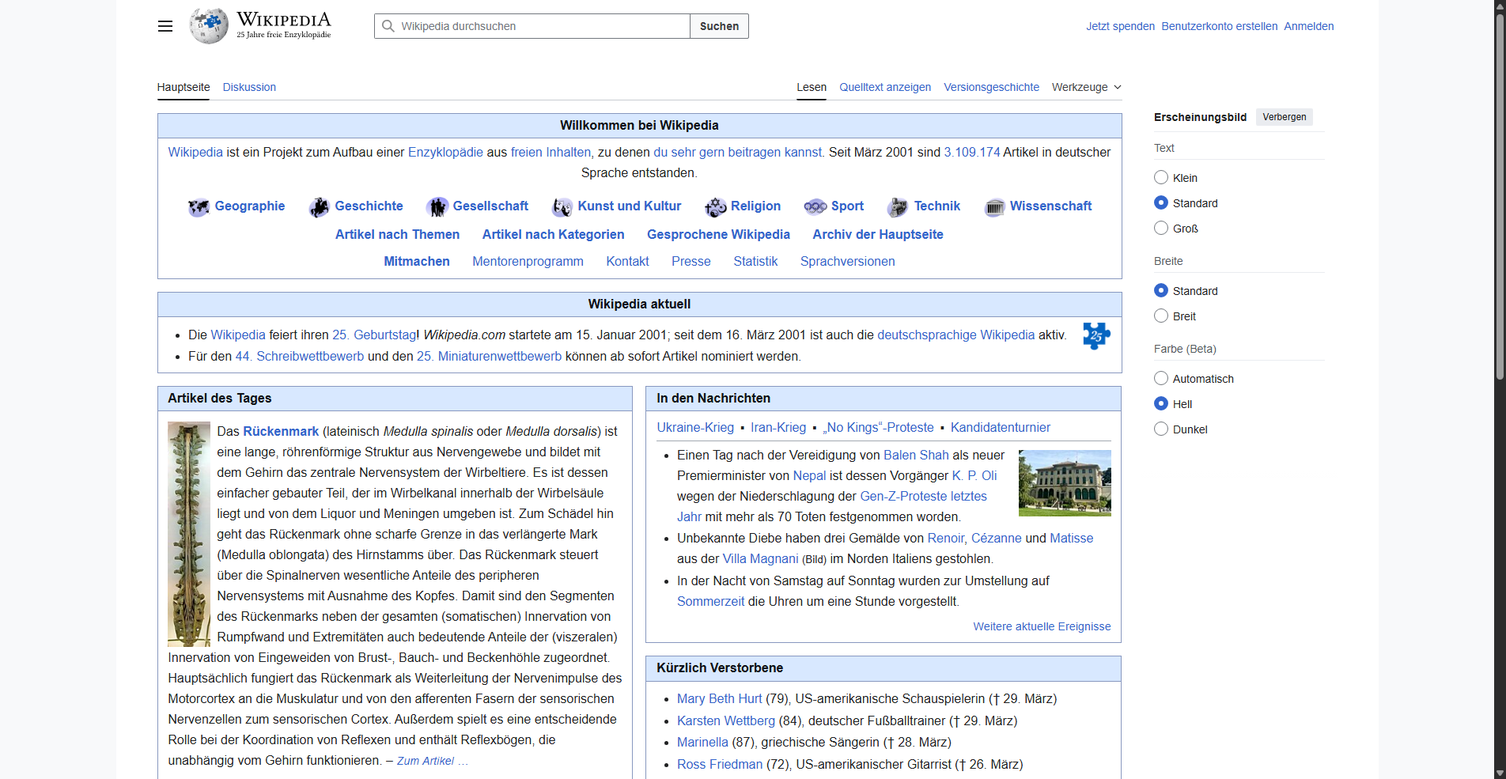button: (374, 13, 749, 39), (951, 130, 1093, 148), (164, 71, 306, 88), (1052, 71, 1122, 99), (690, 13, 749, 39), (1256, 108, 1312, 126), (152, 13, 178, 39)
checkbox: (1052, 71, 1122, 98), (152, 13, 178, 39)
dropdown: (151, 39, 335, 64), (938, 98, 1122, 123), (1052, 71, 1122, 98), (1052, 81, 1108, 93), (165, 26, 165, 26)
input: (374, 13, 690, 39)
label: (1154, 194, 1324, 215), (1154, 219, 1324, 240), (1154, 307, 1324, 328), (1154, 395, 1324, 416), (1154, 420, 1324, 441), (1154, 169, 1324, 189), (1154, 282, 1324, 302), (1154, 370, 1324, 390)
link: (677, 489, 987, 523), (189, 6, 331, 46), (951, 209, 1097, 244), (164, 99, 310, 121), (164, 122, 310, 144), (164, 145, 310, 167), (164, 168, 310, 190), (164, 223, 310, 245), (164, 246, 310, 268), (164, 269, 310, 291), (164, 293, 310, 315), (164, 316, 310, 338), (164, 339, 310, 361), (951, 186, 1097, 208), (951, 245, 1097, 267), (951, 268, 1097, 290), (951, 291, 1097, 313), (951, 346, 1097, 368), (951, 369, 1097, 391), (944, 71, 1039, 100), (839, 71, 931, 100), (654, 146, 822, 159), (877, 328, 1035, 341), (647, 227, 790, 241), (482, 227, 624, 241), (417, 350, 562, 363), (813, 227, 944, 241), (973, 620, 1111, 633), (335, 227, 460, 241), (235, 350, 364, 363), (472, 254, 584, 268), (157, 71, 210, 100), (223, 71, 276, 100), (823, 421, 934, 434), (578, 199, 681, 213), (1161, 20, 1278, 32), (800, 254, 895, 268), (951, 421, 1050, 434), (677, 714, 775, 727), (1019, 476, 1111, 489), (677, 692, 762, 706), (1010, 199, 1092, 213), (677, 758, 763, 771), (332, 328, 416, 341), (243, 424, 319, 438), (453, 199, 528, 213), (723, 552, 798, 566), (511, 146, 591, 159), (657, 421, 734, 434), (215, 199, 285, 213), (408, 146, 483, 159), (335, 199, 403, 213), (384, 254, 450, 268), (397, 754, 468, 767), (884, 448, 949, 462), (677, 595, 744, 608), (797, 71, 827, 100), (1086, 20, 1155, 32), (944, 146, 1000, 159), (168, 146, 223, 159), (211, 328, 266, 341), (751, 421, 806, 434), (731, 199, 781, 213), (971, 532, 1022, 545), (677, 736, 728, 749), (913, 199, 960, 213), (733, 254, 778, 268), (606, 254, 649, 268), (168, 526, 211, 540), (1284, 20, 1334, 32), (952, 469, 997, 482), (671, 254, 711, 268), (1050, 532, 1093, 545), (927, 532, 964, 545), (831, 199, 864, 213), (793, 469, 826, 482), (1082, 328, 1111, 342), (187, 199, 211, 213), (803, 199, 827, 213), (886, 199, 910, 213), (983, 199, 1007, 213), (308, 199, 331, 213), (426, 199, 449, 213), (551, 199, 574, 213), (704, 199, 727, 213)
radio: (1154, 195, 1169, 211), (1154, 220, 1169, 236), (1154, 308, 1169, 324), (1154, 370, 1169, 386), (1154, 396, 1169, 412), (1154, 421, 1169, 437), (1154, 170, 1169, 185), (1154, 283, 1169, 298)
